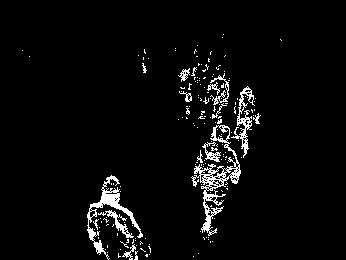person: (189, 126, 241, 237), (86, 175, 152, 260), (233, 86, 260, 156), (212, 70, 231, 125)
